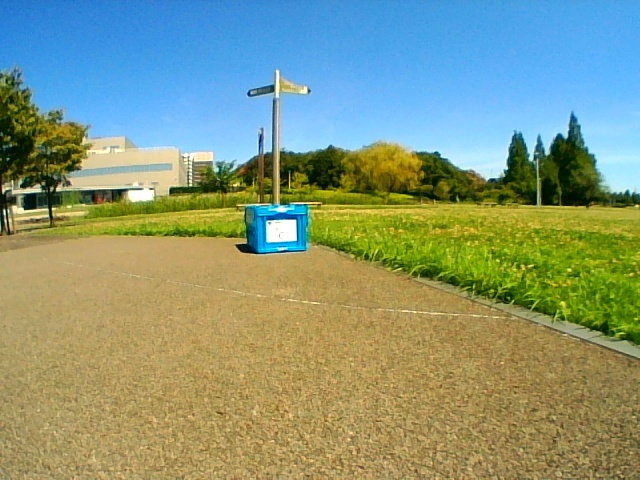blue_box: (246, 206, 306, 251)
tag: (267, 220, 295, 241)
